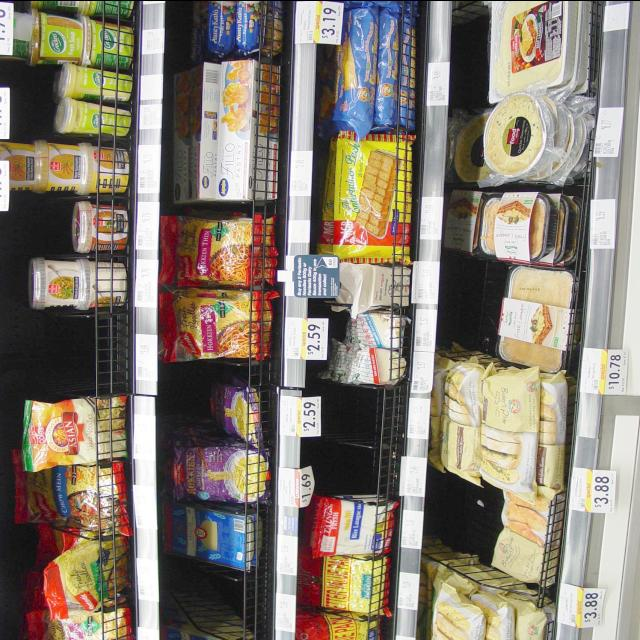empty_space: (24, 315, 121, 385), (335, 396, 393, 481), (180, 583, 256, 625), (444, 497, 488, 549)
